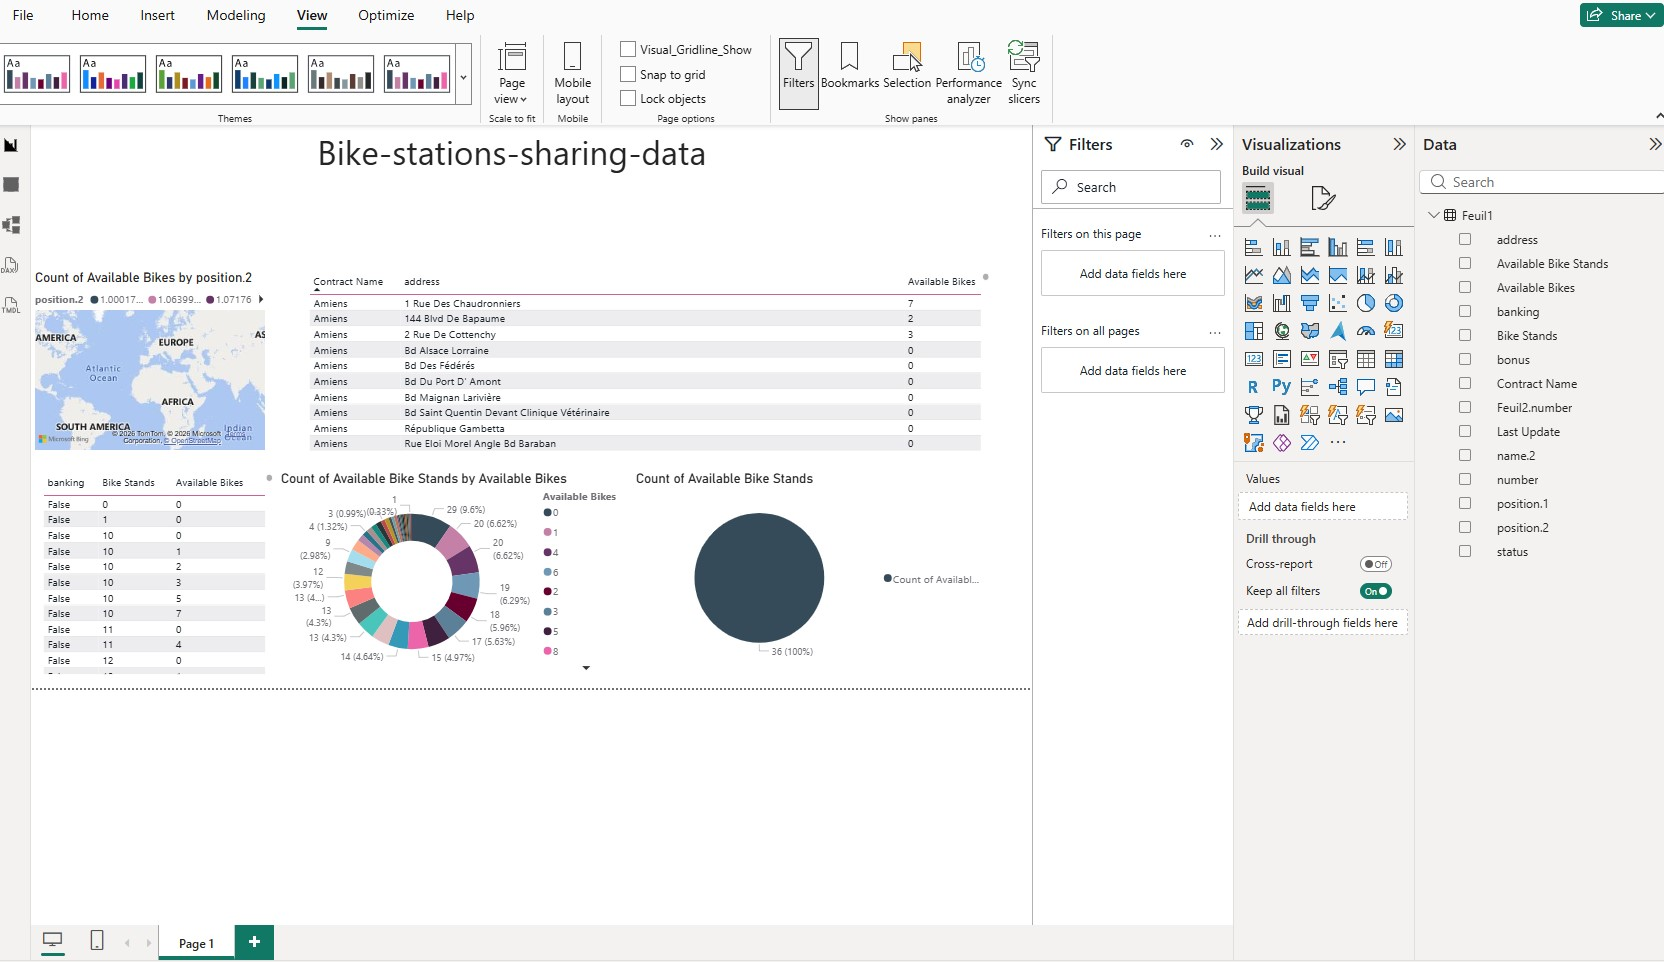

What the dashboard file says about the page in this screenshot:
{"tool":"powerbi","page":{"name":"Page 1","canvas":[1280,720],"ordinal":0},"visuals":[{"type":"tableEx","fields":{"Values":["Feuil1.banking","Feuil1.Bike Stands","Feuil1.Available Bikes"]},"box":[10.2,441.2,304.3,266],"z":0},{"type":"donutChart","fields":{"Y":["Count(Feuil1.Available Bike Stands)"],"Category":["Feuil1.Available Bikes"]},"box":[314.6,441.2,453.9,266],"z":1000},{"type":"pieChart","fields":{"Y":["Count(Feuil1.Available Bike Stands)"]},"box":[768.5,441.2,461.6,257],"z":2000},{"type":"map","fields":{"Series":["Feuil1.position.2"],"Size":["Count(Feuil1.Available Bikes)"]},"box":[0,184.1,304.3,236.6],"z":3000},{"type":"tableEx","fields":{"Values":["Feuil1.Contract Name","Feuil1.address","Feuil1.Available Bikes"]},"box":[350.4,184.1,879.8,236.6],"z":4000},{"type":"textbox","box":[0,0,1230.1,87],"z":4001}]}

Visuals, with their boxes on the page's 1280x720 design canvas (x1, y1, x2, y2). These are canvas units, not pixel positions in the 1664x962 screenshot, which may show the page scaled, cropped or inside an application window:
tableEx - Feuil1.banking x Feuil1.Bike Stands: [10,441,314,707]
donutChart - Count(Feuil1.Available Bike Stands) x Feuil1.Available Bikes: [315,441,768,707]
pieChart - Count(Feuil1.Available Bike Stands): [768,441,1230,698]
map - Feuil1.position.2 x Count(Feuil1.Available Bikes): [0,184,304,421]
tableEx - Feuil1.Contract Name x Feuil1.address: [350,184,1230,421]
textbox: [0,0,1230,87]
